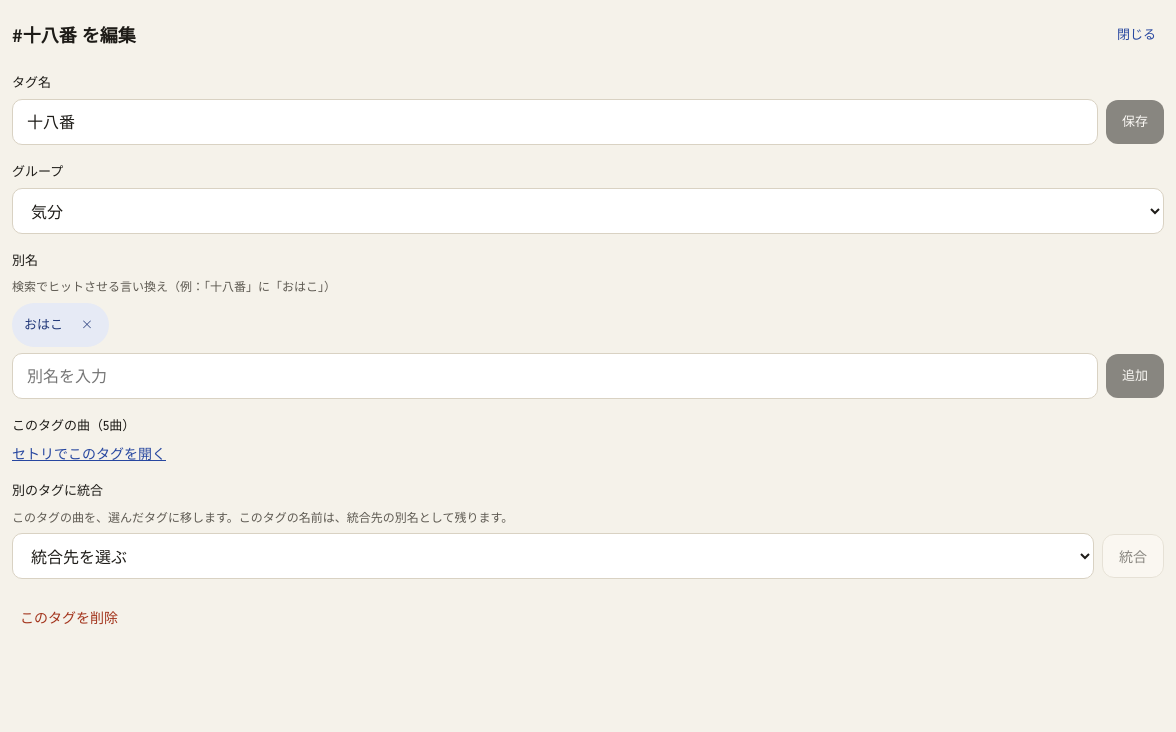
Test: TagEditor › 新しいグループを作って移す。やめると元に戻る
Select "＋ 新しいグループを作る" in the dropdown labelled "グループ" at [588, 211], box [12,188,1164,234]
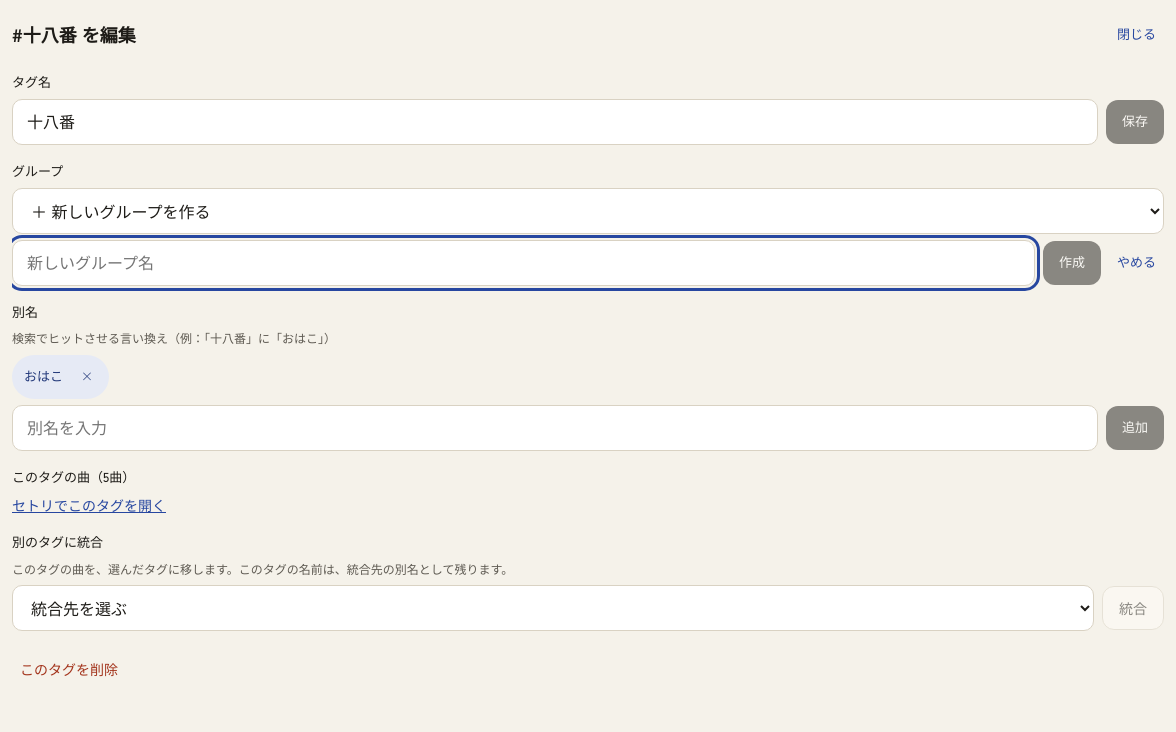
Click the button "やめる" at [1136, 263], box [1109,241,1164,285]
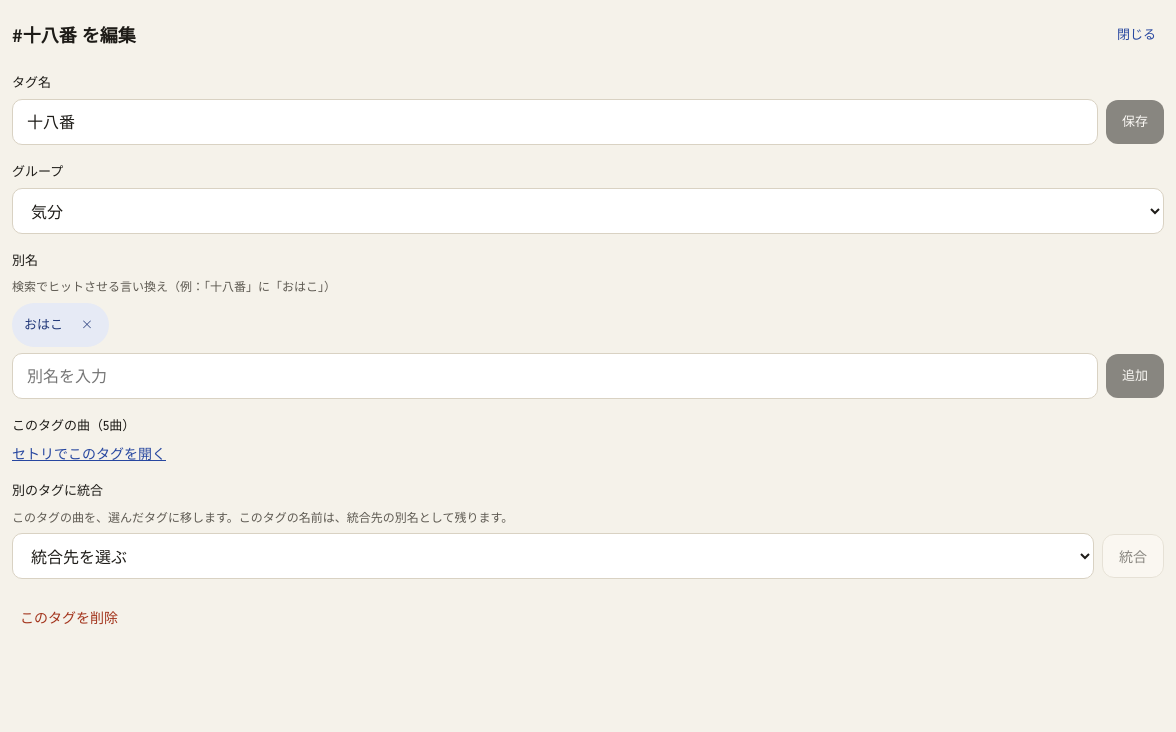
expect the field labelled "新しいグループ名" is gone: met
Select "＋ 新しいグループを作る" in the dropdown labelled "グループ" at [588, 211], box [12,188,1164,234]
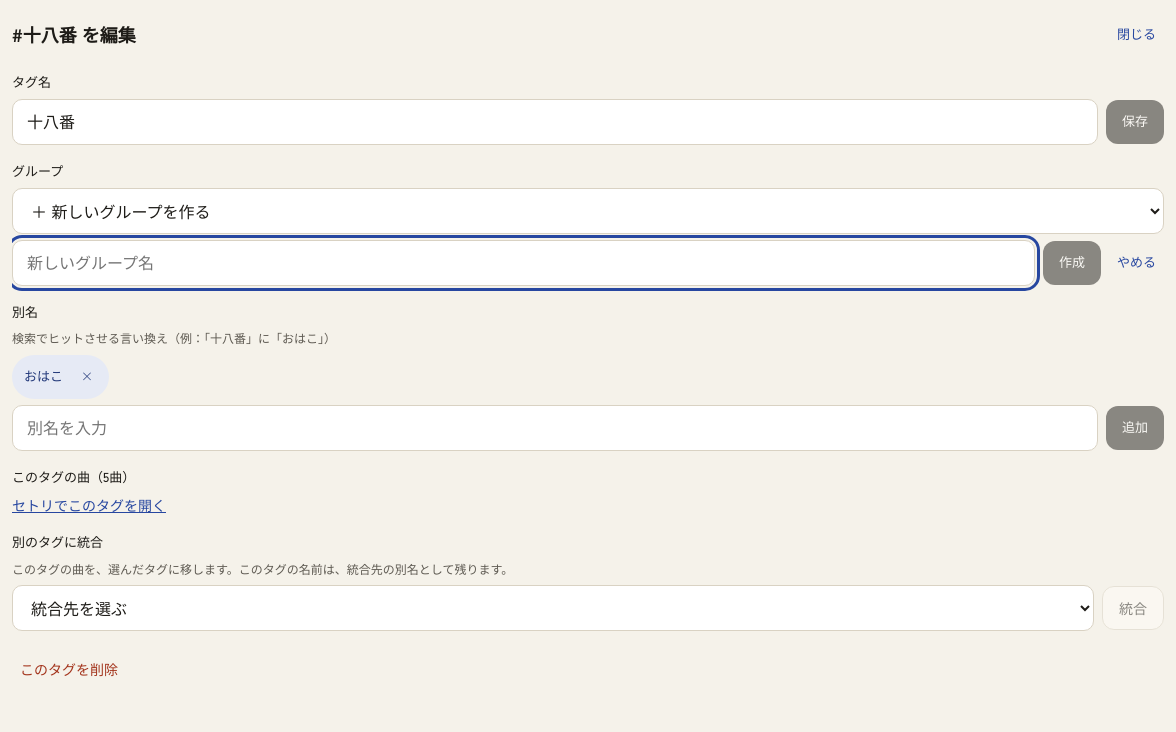
expect the button "作成" is disabled: met, box [1043,241,1101,285]
Type "定番" into the field labelled "新しいグループ名" at [524, 263], box [12,240,1035,286]
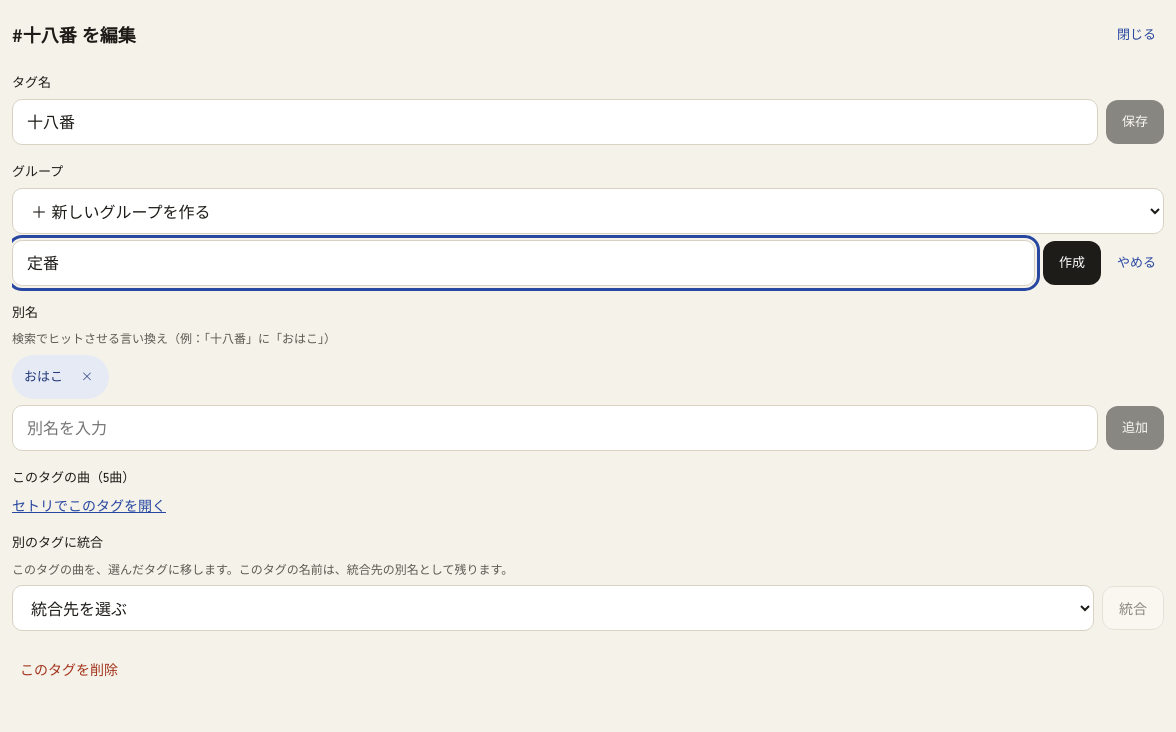
Click the button "作成" at [1072, 263], box [1043,241,1101,285]
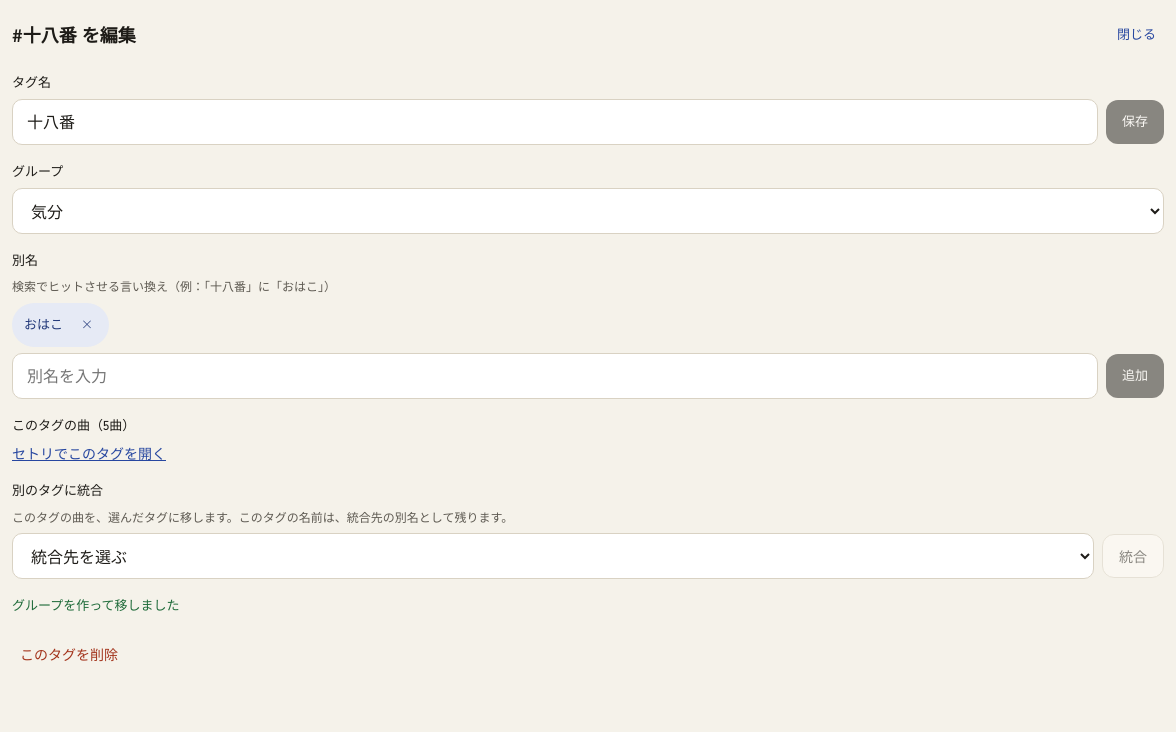
expect the message reads "グループを作って移しました": met, box [12,595,180,614]
expect the field labelled "新しいグループ名" is gone: met
